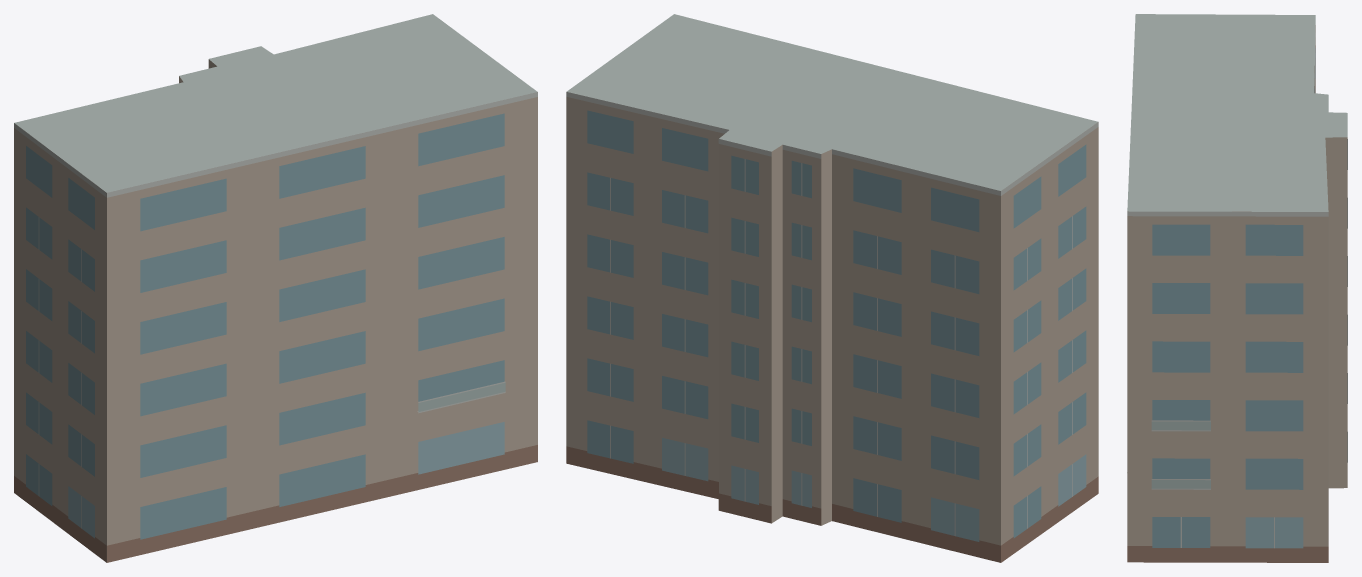
The model's file is survey-upis-32520610.glb.
3 renders of one model, left to right at view 1: azimuth 30°, elevation 25°; view 2: azimuth 150°, elevation 25°; view 3: azimuth 270°, elevation 25°, orthographic. The views are drawn at different scales.
Parts seen in each view (by area): view 1: survey-upis-32520610.tmp; view 2: survey-upis-32520610.tmp; view 3: survey-upis-32520610.tmp.
Boxes of the visible parts, x1,y1,x2,y2 form: survey-upis-32520610.tmp: (14,14,537,562); survey-upis-32520610.tmp: (566,14,1098,562); survey-upis-32520610.tmp: (1127,14,1347,562).
Size of the model in its own units: 22.15 by 18.3 by 10.43.
